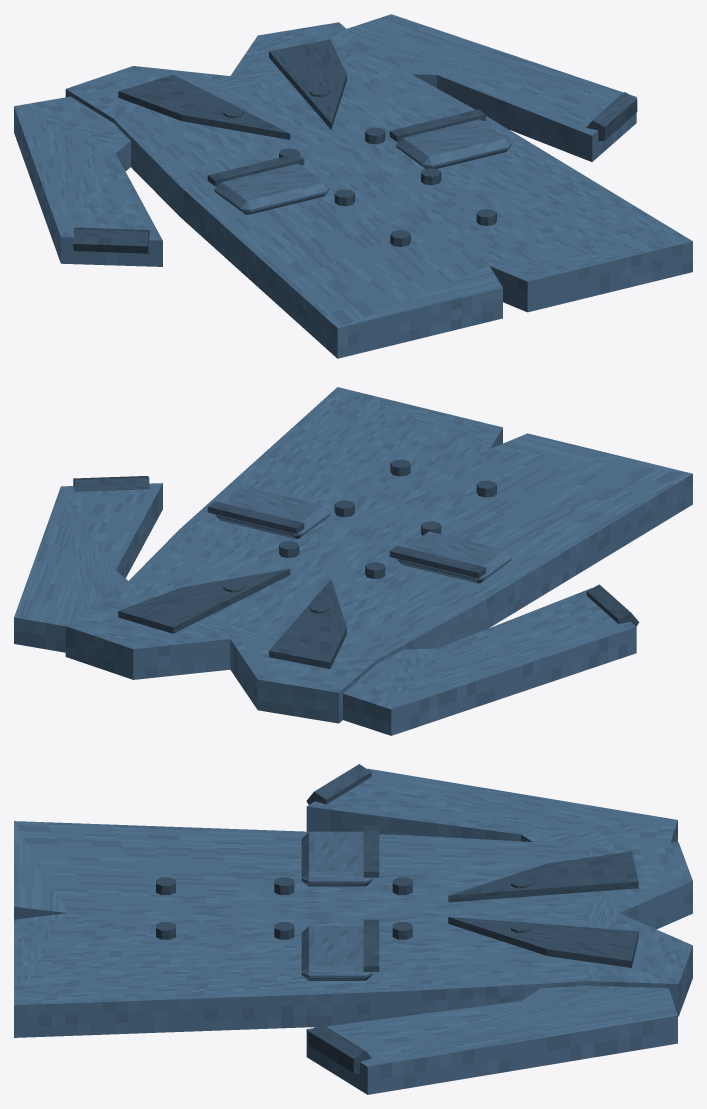
The model's file is greatcoat.glb.
3 views of the same model, one above another, from view 1: azimuth 30°, elevation 25°; view 2: azimuth 150°, elevation 25°; view 3: azimuth 270°, elevation 25° (orthographic). The views are drawn at different scales.
Visible parts, largest first — view 1: block_coat body, block_sleeve (×2), block_lapel (×2), block_patch pocket (×2), block_cuff 0 (×2), block_pocket welt (×2); view 2: block_coat body, block_sleeve (×2), block_lapel (×2), block_patch pocket (×2), block_pocket welt (×2), block_cuff 0 (×2); view 3: block_coat body, block_sleeve (×2), block_lapel (×2), block_patch pocket (×2), block_cuff 0 (×2), block_pocket welt (×2).
Part boxes in pixels (bbox=[...]): block_coat body: bbox=[65, 22, 692, 358]; block_sleeve (×2): bbox=[14, 14, 636, 266]; block_lapel (×2): bbox=[118, 39, 346, 139]; block_patch pocket (×2): bbox=[214, 119, 511, 214]; block_cuff 0 (×2): bbox=[73, 92, 637, 253]; block_pocket welt (×2): bbox=[207, 109, 485, 186]; block_coat body: bbox=[65, 387, 692, 723]; block_sleeve (×2): bbox=[14, 483, 636, 735]; block_lapel (×2): bbox=[118, 568, 346, 668]; block_patch pocket (×2): bbox=[215, 487, 511, 583]; block_pocket welt (×2): bbox=[207, 501, 485, 578]; block_cuff 0 (×2): bbox=[73, 476, 639, 626]; block_coat body: bbox=[14, 821, 692, 1037]; block_sleeve (×2): bbox=[306, 768, 677, 1094]; block_lapel (×2): bbox=[448, 851, 638, 967]; block_patch pocket (×2): bbox=[301, 831, 372, 980]; block_cuff 0 (×2): bbox=[306, 764, 371, 1073]; block_pocket welt (×2): bbox=[363, 825, 379, 971].
Size of the model in its own units: 0.95 by 0.0745 by 0.9139.
1 material, 1 textured.
